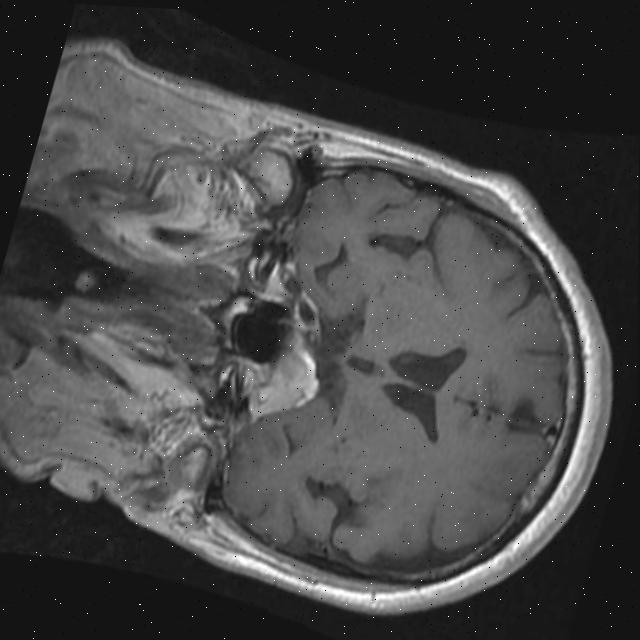Meningioma: (234, 328, 329, 443)
